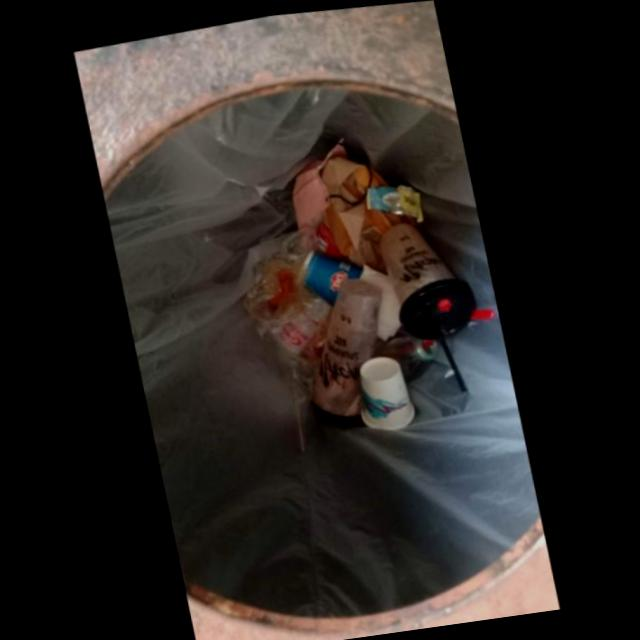bao_bi_thuc_pham: (366, 180, 423, 218)
carton: (359, 352, 415, 426), (301, 246, 362, 301)
giay: (359, 260, 401, 337)
hop_nhua: (380, 216, 478, 337), (312, 275, 382, 424)
khau_trang: (292, 134, 373, 223)
tui_ni_long: (243, 220, 328, 337)
